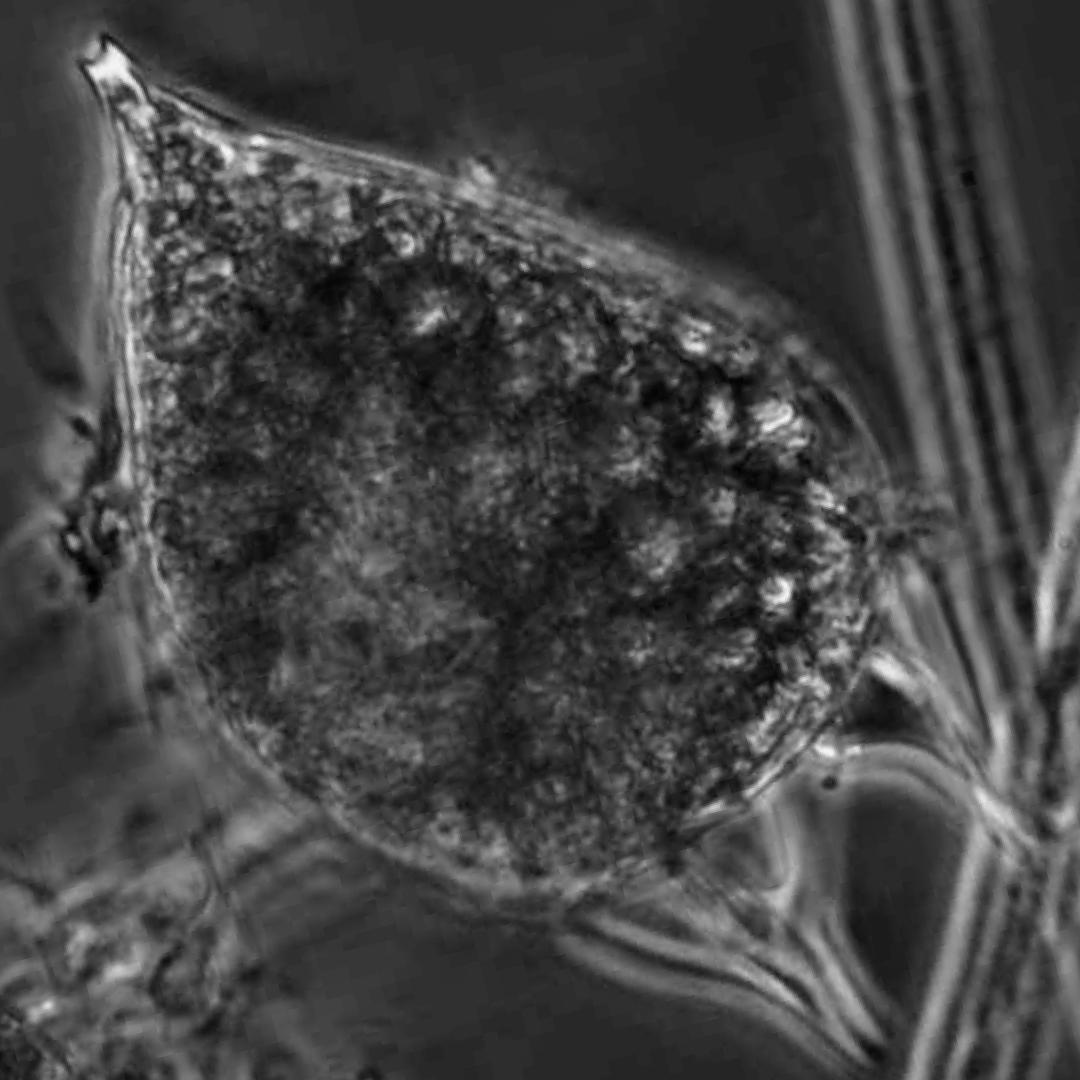podolampas_bipes: (78, 34, 1044, 1078)
